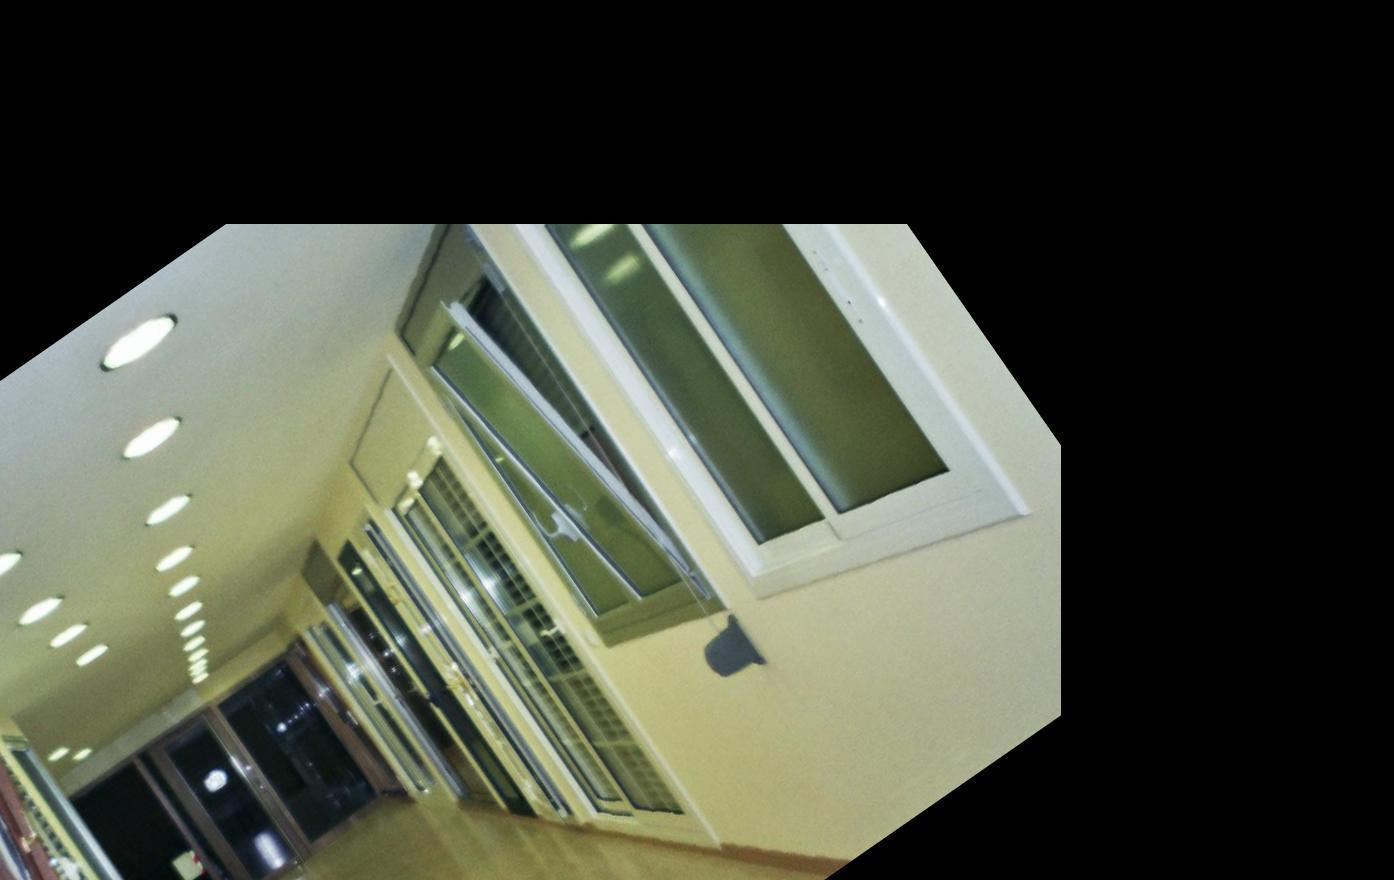Puerta: (385, 459, 719, 880)
